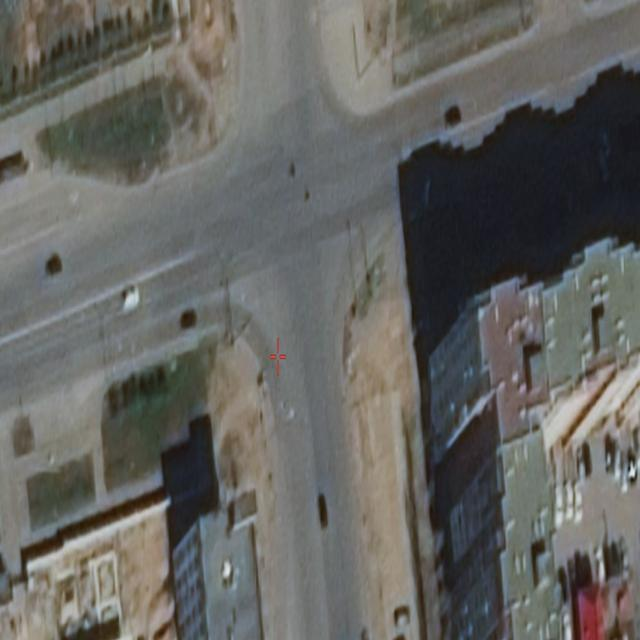crack: (283, 163, 296, 179), (302, 189, 312, 203)
road: (0, 0, 640, 640)
